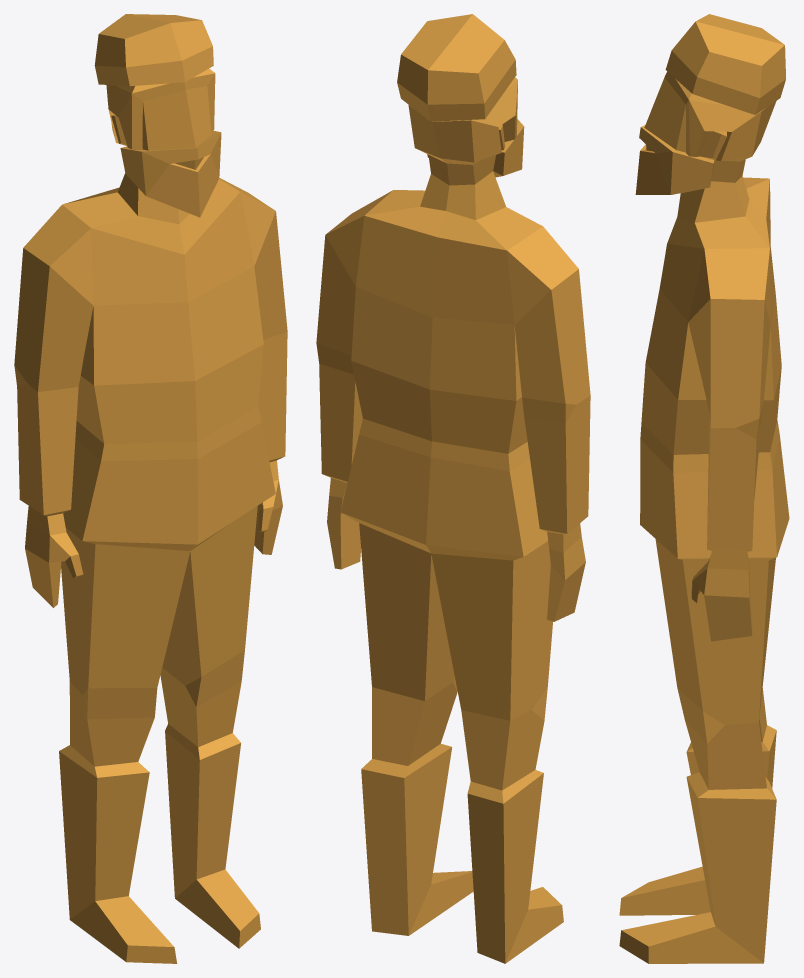
The model's file is man-lord.fbx.
3 renders of one model, left to right at view 1: azimuth 30°, elevation 25°; view 2: azimuth 150°, elevation 25°; view 3: azimuth 270°, elevation 25°, orthographic.
Parts seen in each view (by area): view 1: man-lord; view 2: man-lord; view 3: man-lord.
Part boxes in pixels (x1,y1,x2,y2): man-lord: (14, 14, 287, 963); man-lord: (316, 14, 590, 963); man-lord: (619, 14, 789, 963).
Size of the model in its own units: 0.5438 by 1.88 by 0.3194.
